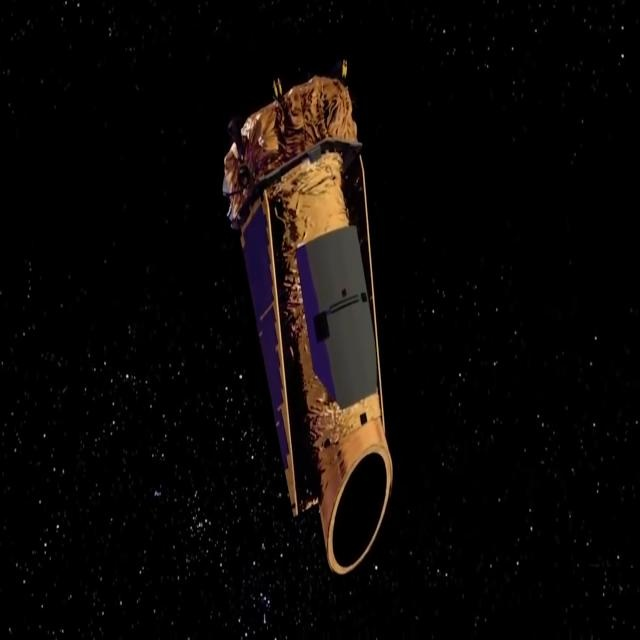satellite: (222, 41, 391, 592)
